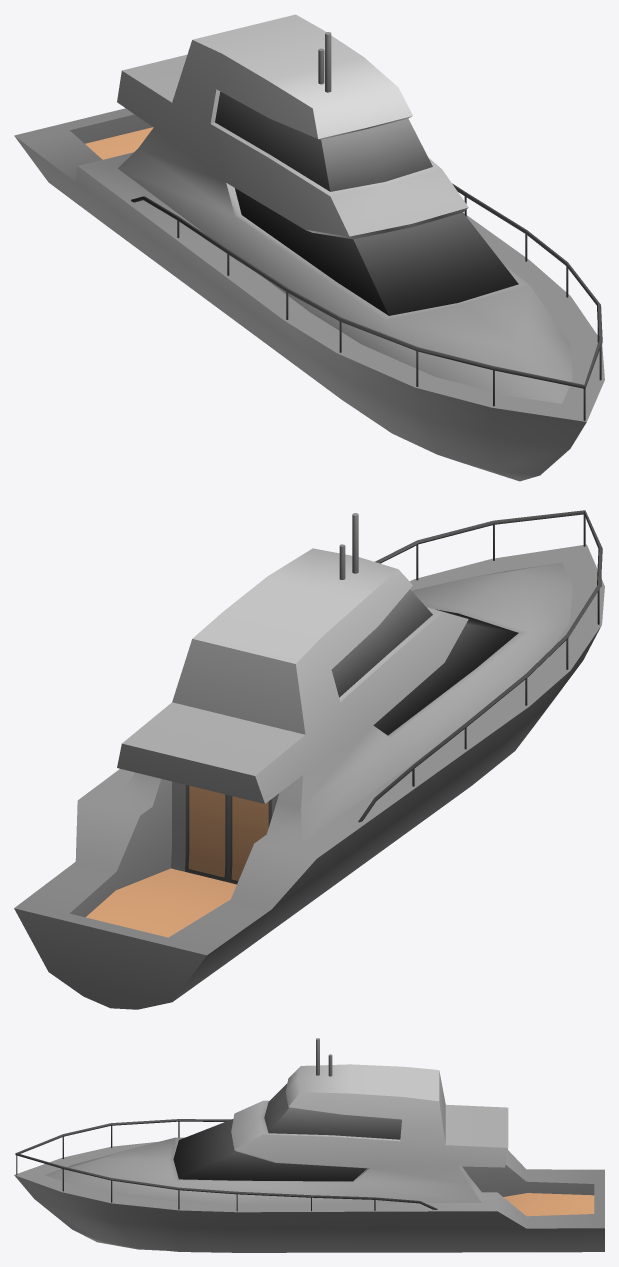
The model's file is yacht 2.fbx.
The picture shows the model from 3 angles, top to bottom: view 1: azimuth 30°, elevation 25°; view 2: azimuth 150°, elevation 25°; view 3: azimuth 270°, elevation 25°; orthographic projection. The views are drawn at different scales.
Parts seen in each view (by area): view 1: yacht_2; view 2: yacht_2; view 3: yacht_2.
Boxes of the visible parts, x1,y1,x2,y2 form: yacht_2: (14, 14, 604, 481); yacht_2: (14, 510, 604, 1009); yacht_2: (14, 1038, 604, 1252).
Bounding box in the file's own units: 533 × 680 × 1788.
1 material, 1 textured.
